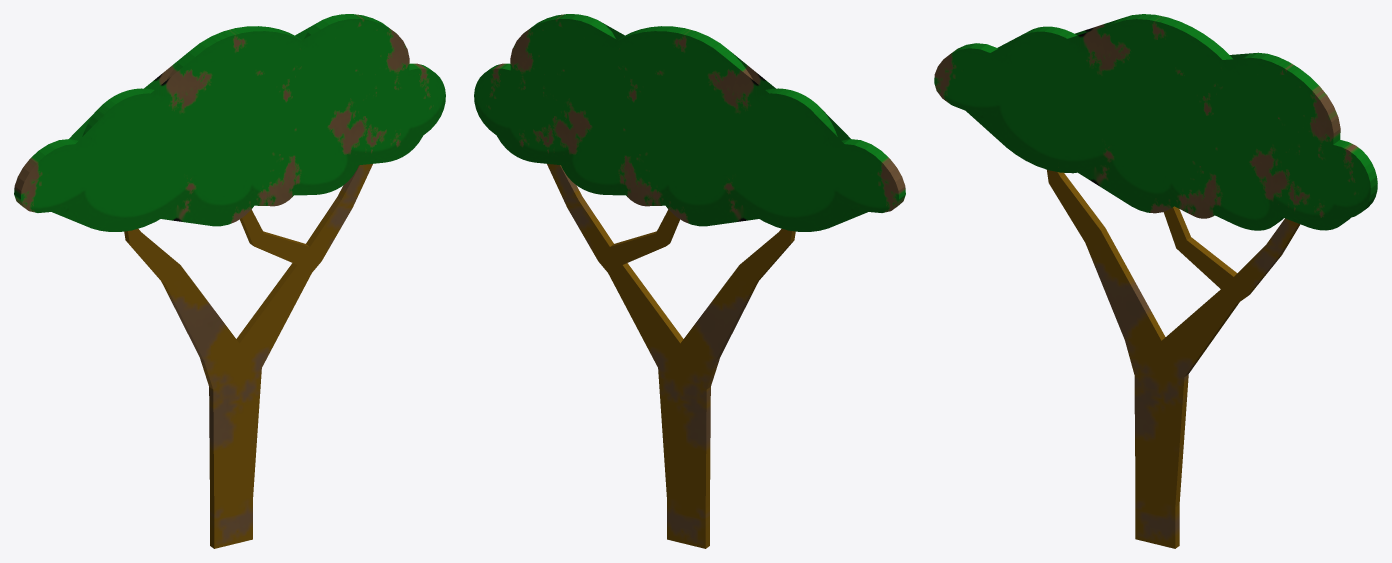
The model's file is arbol 5.fbx.
3 renders of one model, left to right at view 1: azimuth 30°, elevation 25°; view 2: azimuth 150°, elevation 25°; view 3: azimuth 330°, elevation 25°, orthographic. The views are drawn at different scales.
Parts seen in each view (by area): view 1: arbol 5; view 2: arbol 5; view 3: arbol 5.
Part boxes in pixels (x1,y1,x2,y2): arbol 5: (14, 14, 445, 548); arbol 5: (474, 14, 905, 548); arbol 5: (934, 14, 1377, 548).
Bounding box in the file's own units: 642 × 737 × 17.73.
